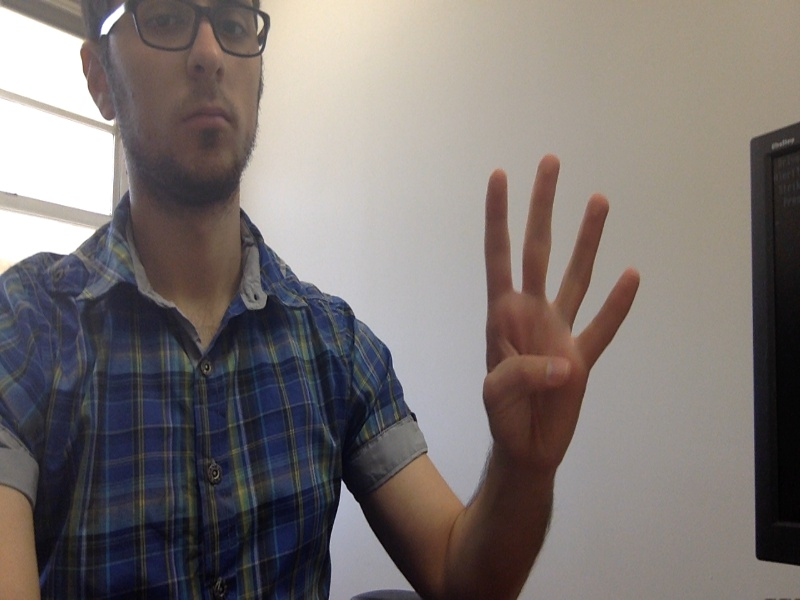4-hand: (479, 152, 644, 464)
